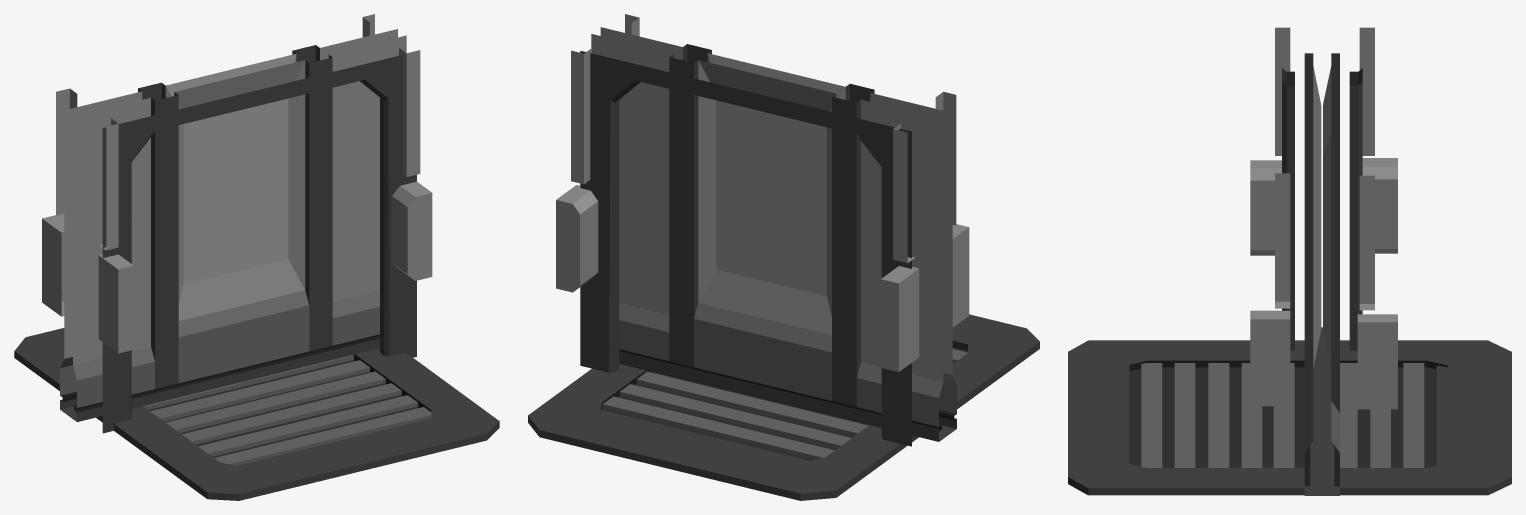
Rendered from door_B.FBX.
3 views of the same model, side by side, from view 1: azimuth 30°, elevation 25°; view 2: azimuth 150°, elevation 25°; view 3: azimuth 270°, elevation 25° (orthographic). The views are drawn at different scales.
Visible parts, largest first — view 1: door_B_door, door_B_panel, door_B_rim; view 2: door_B_door, door_B_rim, door_B_panel; view 3: door_B_panel, door_B_rim, door_B_door.
Boxes of the visible parts, left/top/right/bottom form: door_B_door: left=60, top=29, right=406, bottom=421; door_B_panel: left=14, top=328, right=499, bottom=500; door_B_rim: left=42, top=14, right=432, bottom=433; door_B_door: left=591, top=27, right=956, bottom=441; door_B_rim: left=556, top=14, right=969, bottom=446; door_B_panel: left=528, top=314, right=1039, bottom=500; door_B_panel: left=1068, top=340, right=1511, bottom=495; door_B_rim: left=1250, top=27, right=1397, bottom=409; door_B_door: left=1304, top=53, right=1339, bottom=495.
Size of the model in its own units: 192 by 170 by 212.
